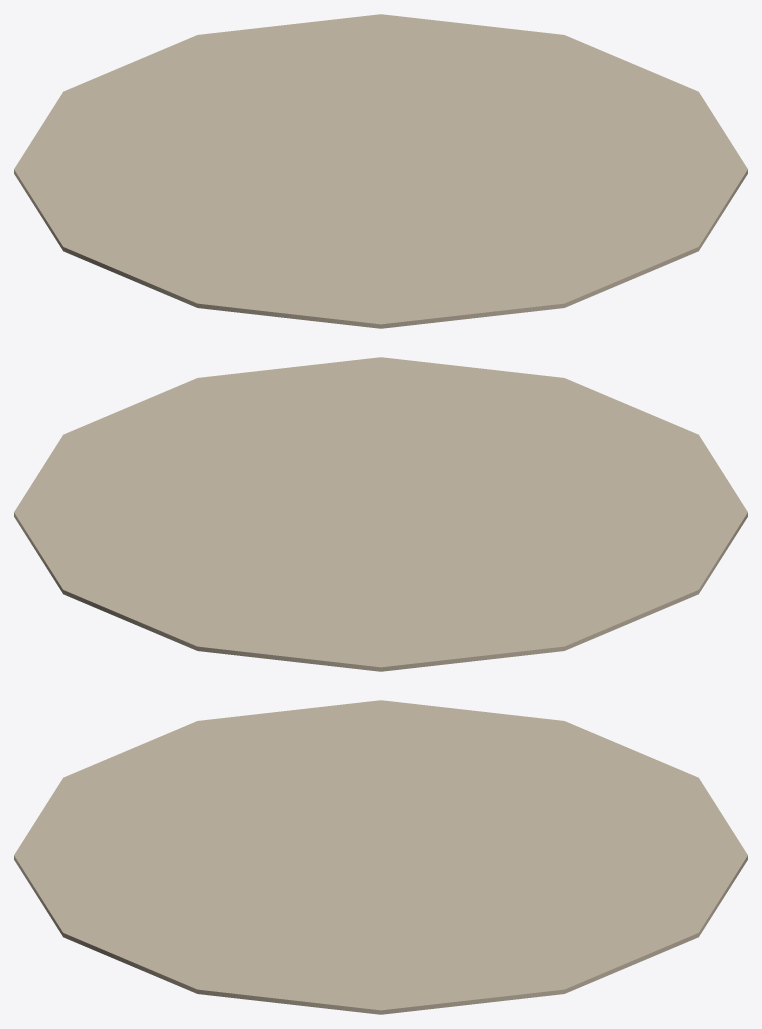
The model's file is rug-3.glb.
The picture shows the model from 3 angles, top to bottom: view 1: azimuth 30°, elevation 25°; view 2: azimuth 150°, elevation 25°; view 3: azimuth 270°, elevation 25°; orthographic projection.
Parts seen in each view (by area): view 1: rug:3:editor; view 2: rug:3:editor; view 3: rug:3:editor.
Boxes of the visible parts, x1,y1,x2,y2 form: rug:3:editor: (14,14,747,328); rug:3:editor: (14,357,747,671); rug:3:editor: (14,700,747,1014).
Bounding box in the file's own units: 1.8 × 0.012 × 1.8.
